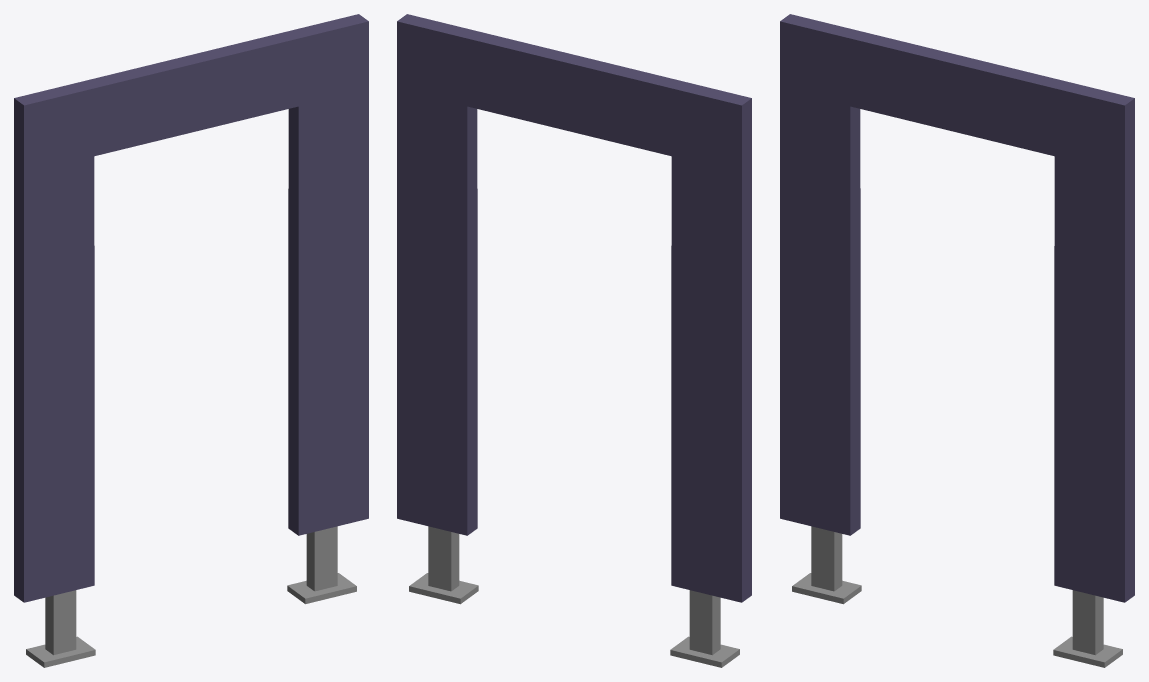
The model's file is stalldoorwall.fbx.
The picture shows the model from 3 angles, left to right: view 1: azimuth 30°, elevation 25°; view 2: azimuth 150°, elevation 25°; view 3: azimuth 330°, elevation 25°; orthographic projection.
Visible parts, largest first — view 1: Stall Entrance; view 2: Stall Entrance; view 3: Stall Entrance.
Part boxes in pixels (x1,y1,x2,y2): Stall Entrance: [14, 14, 368, 667]; Stall Entrance: [397, 14, 751, 667]; Stall Entrance: [780, 14, 1134, 667].
Bounding box in the file's own units: 907 × 1416 × 82.63.
